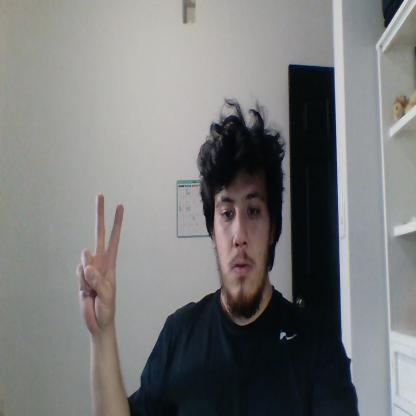V: (77, 192, 124, 331)
